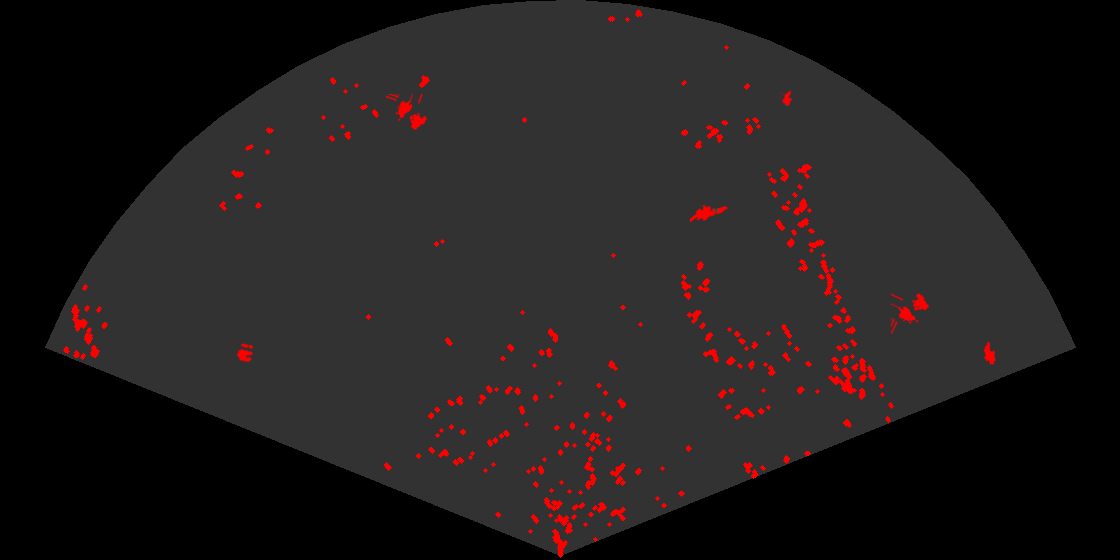AUV: (983, 340, 998, 366), (779, 89, 794, 107)
ball: (235, 342, 255, 364)
cage: (891, 291, 931, 334), (386, 94, 429, 132)
frogman: (690, 203, 729, 224)
